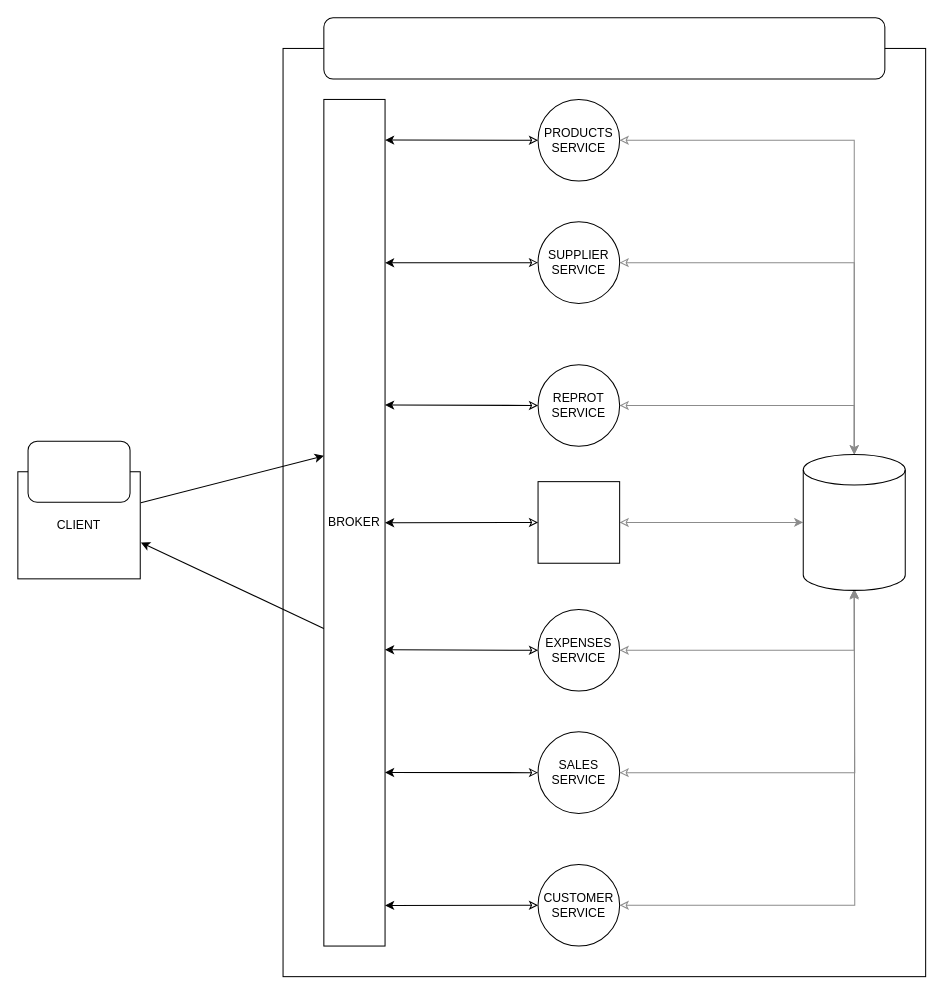
Some shapes in this 944 by 995 pixel diagram are drawn without their labels. Each missing label, with the centre of its shape:
"Angular" goes at point 78,471.
"AUTH SERVICE" goes at point 578,522.
"DB" goes at point 853,521.
"GO" goes at point 604,48.
